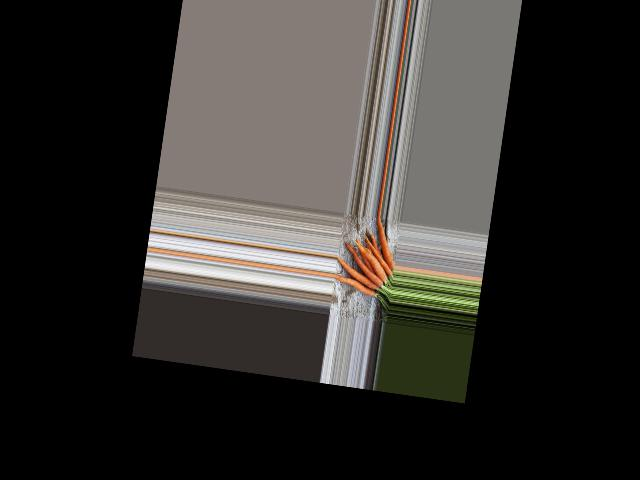carrot: (368, 218, 400, 273)
